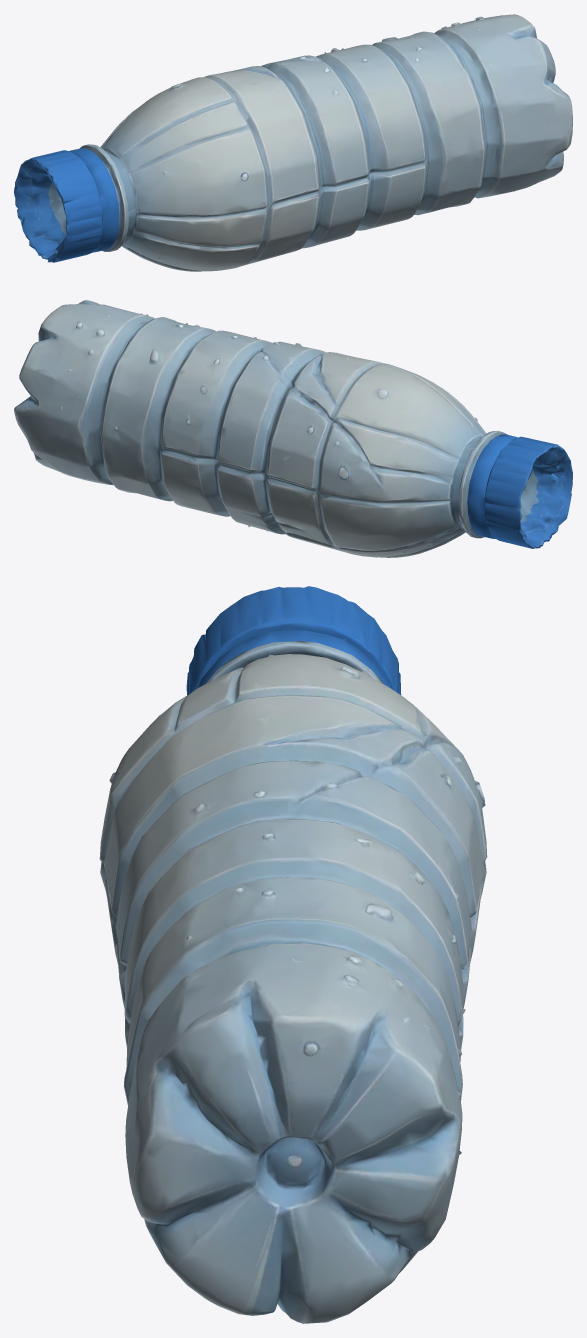
Rendered from botella.glb.
The picture shows the model from 3 angles, top to bottom: view 1: azimuth 30°, elevation 25°; view 2: azimuth 150°, elevation 25°; view 3: azimuth 270°, elevation 25°; orthographic projection. The views are drawn at different scales.
Parts seen in each view (by area): view 1: tripo_node_21fed944-d848-4ad9-80a4-c20893f665c8; view 2: tripo_node_21fed944-d848-4ad9-80a4-c20893f665c8; view 3: tripo_node_21fed944-d848-4ad9-80a4-c20893f665c8.
Part boxes in pixels (<box>): tripo_node_21fed944-d848-4ad9-80a4-c20893f665c8: <box>14,14,572,271</box>; tripo_node_21fed944-d848-4ad9-80a4-c20893f665c8: <box>14,300,572,557</box>; tripo_node_21fed944-d848-4ad9-80a4-c20893f665c8: <box>99,586,487,1323</box>.
Size of the model in its own units: 1 by 0.3402 by 0.3344.
Materials: 1 (1 with a texture image).
